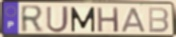A: (120, 7, 147, 34)
B: (147, 7, 170, 34)
H: (96, 6, 120, 34)
M: (69, 6, 96, 33)
R: (20, 4, 46, 35)
U: (45, 5, 70, 34)
